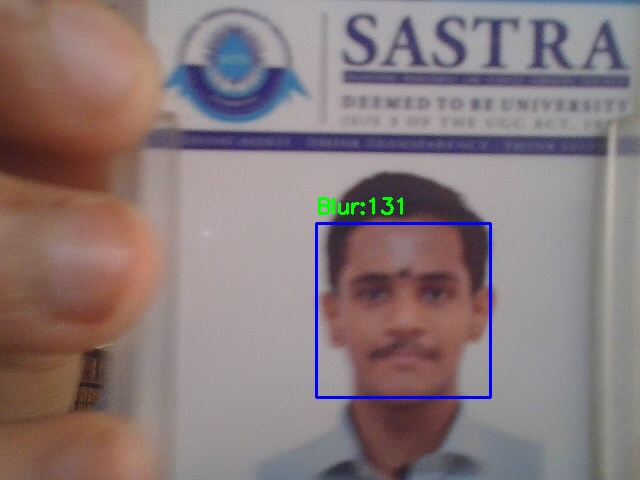fake: (316, 223, 490, 397)
